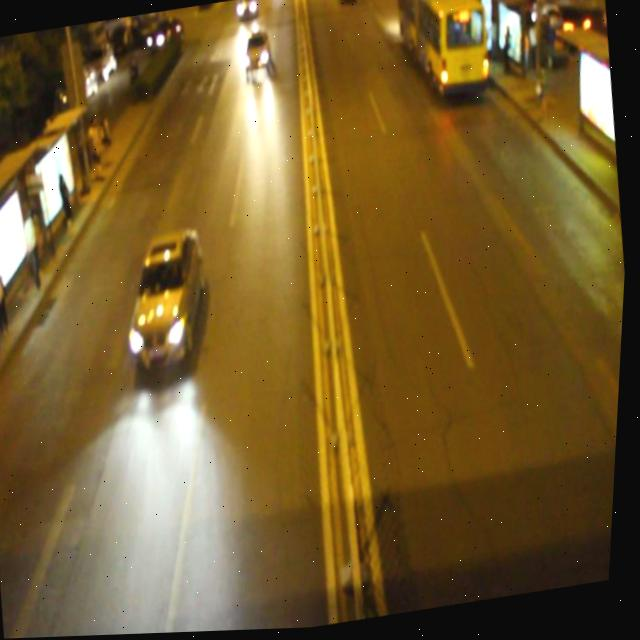car: (119, 228, 218, 375), (238, 26, 275, 78)
van: (389, 0, 492, 104)
